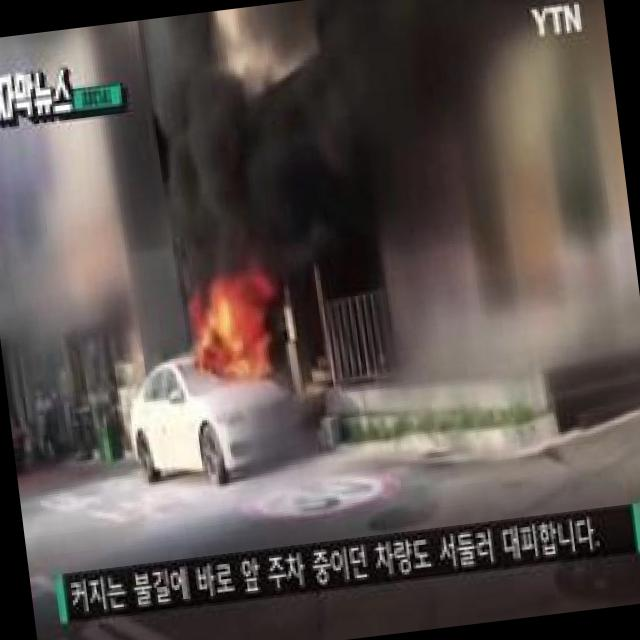Fire: (196, 282, 276, 376)
